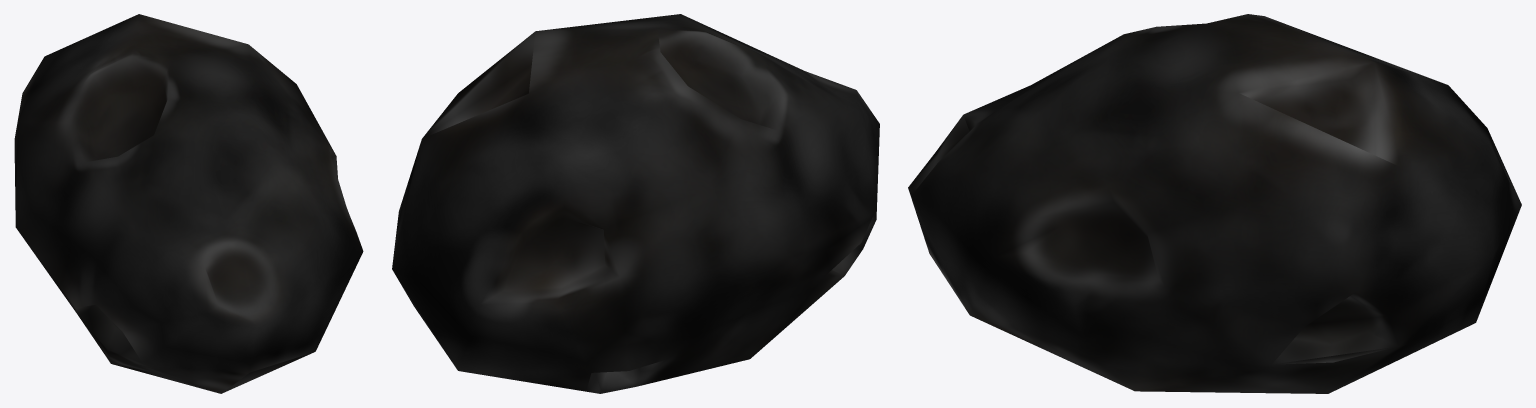
The model's file is Asteroid_Version2_Obstacle.fbx.
3 renders of one model, left to right at view 1: azimuth 30°, elevation 25°; view 2: azimuth 150°, elevation 25°; view 3: azimuth 270°, elevation 25°, orthographic. The views are drawn at different scales.
Visible parts, largest first — view 1: Sharp asteroid; view 2: Sharp asteroid; view 3: Sharp asteroid.
Boxes of the visible parts, x1,y1,x2,y2 form: Sharp asteroid: [14, 14, 363, 393]; Sharp asteroid: [392, 14, 879, 393]; Sharp asteroid: [908, 14, 1521, 393].
Size of the model in its own units: 109 by 105 by 166.
